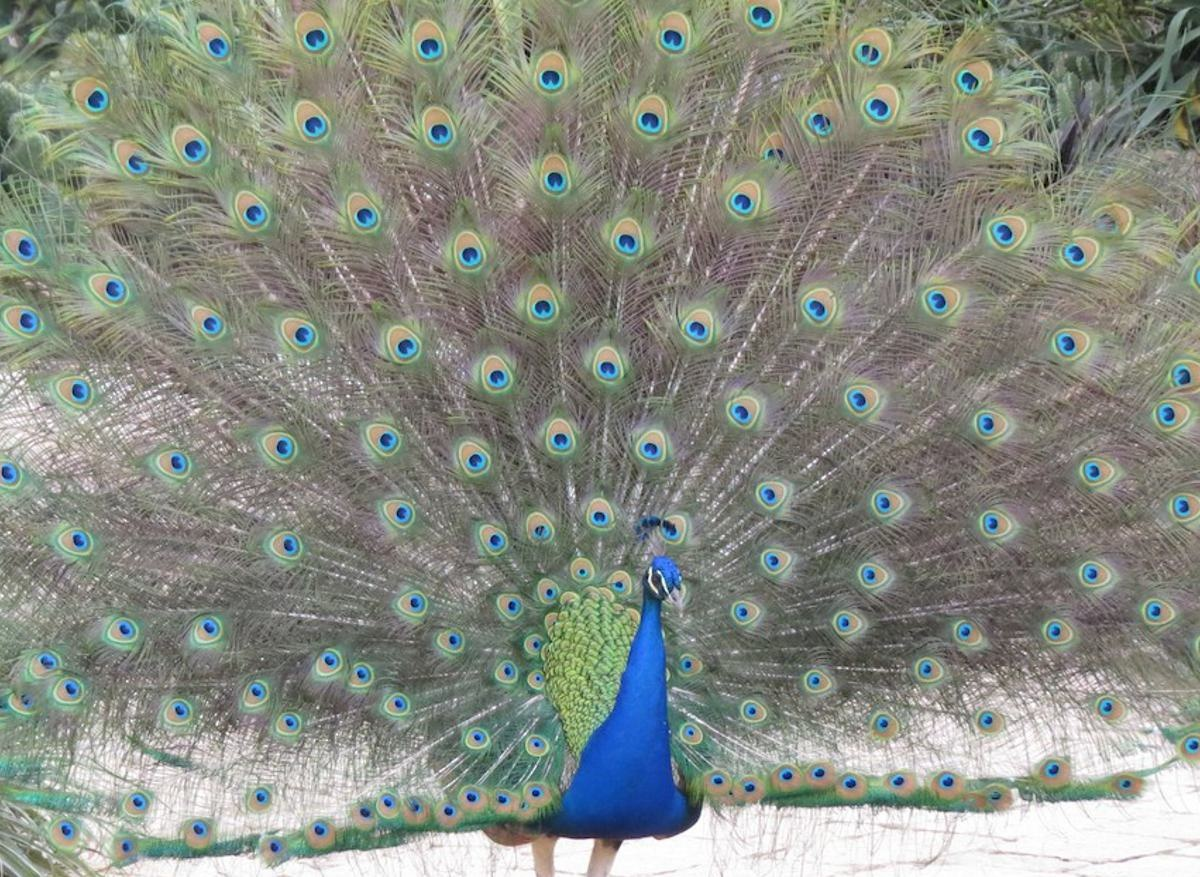peacock: (135, 110, 1105, 843)
